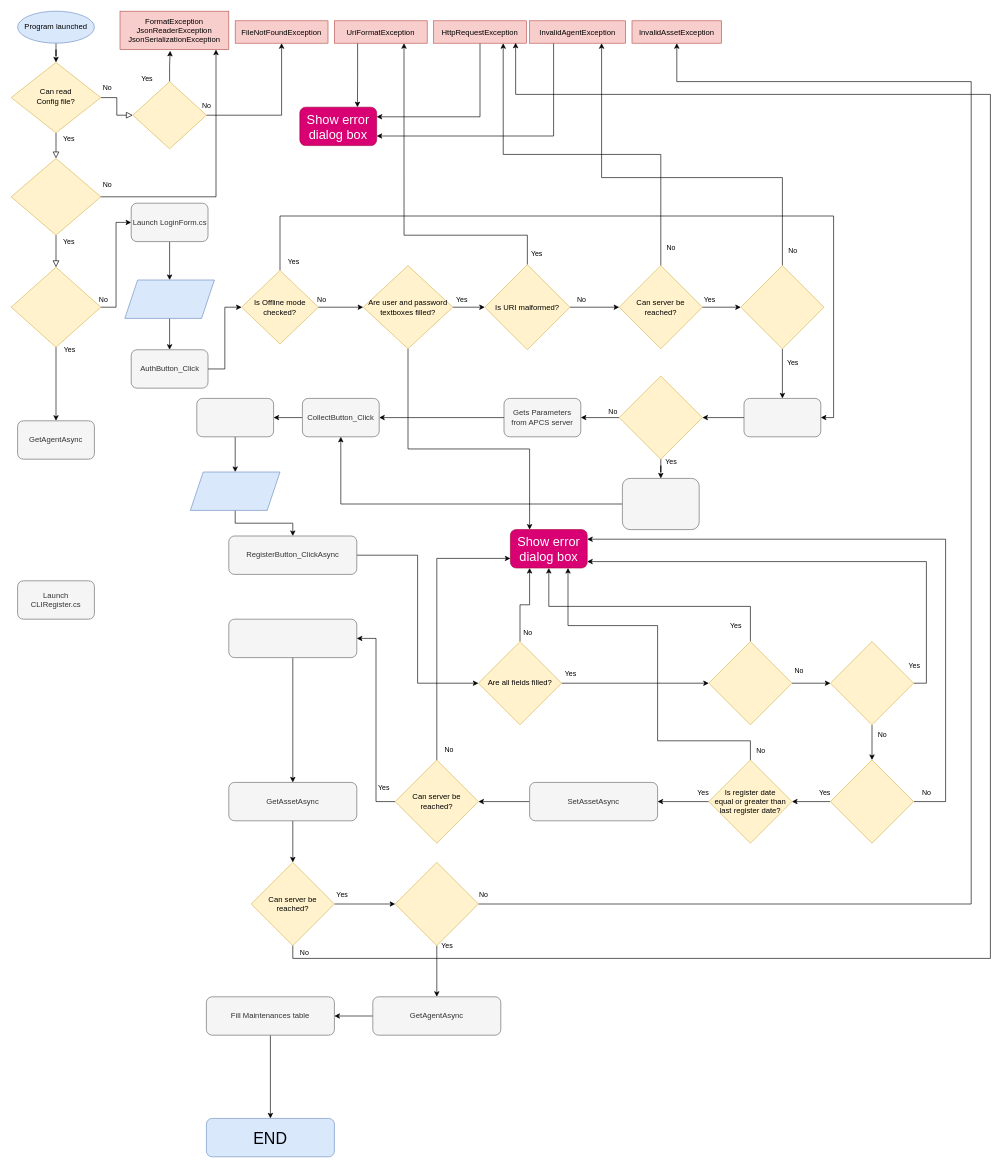
The diagram is 1007 pixels wide and 1168 high, and some of its shapes have lost their labels. The shapes that lost their labels are listed below. From the top down, each one's box as (x1, y1, x2, y2) in pixels, then its label:
(132, 81, 206, 149): Is file malformed?
(11, 158, 101, 235): Is theme parameter in Json file valid?
(11, 267, 101, 347): Do CLI arguments exist?
(124, 279, 214, 318): Input agent and server details
(740, 265, 824, 349): Agent exists in database?
(196, 398, 274, 437): Collects asset data
(619, 375, 702, 459): Is in Offline mode?
(743, 398, 821, 437): Launch MainForm.cs
(190, 471, 280, 510): Input asset details
(622, 478, 699, 530): - Gets Offline Mode Parameter file - Disable register capability
(228, 619, 357, 658): REGISTERED
(708, 641, 792, 725): Is there some configuration pendency?
(830, 641, 914, 725): Asset exists and is discarded?
(830, 759, 914, 843): Is server online?
(395, 862, 478, 946): Do asset exist?
